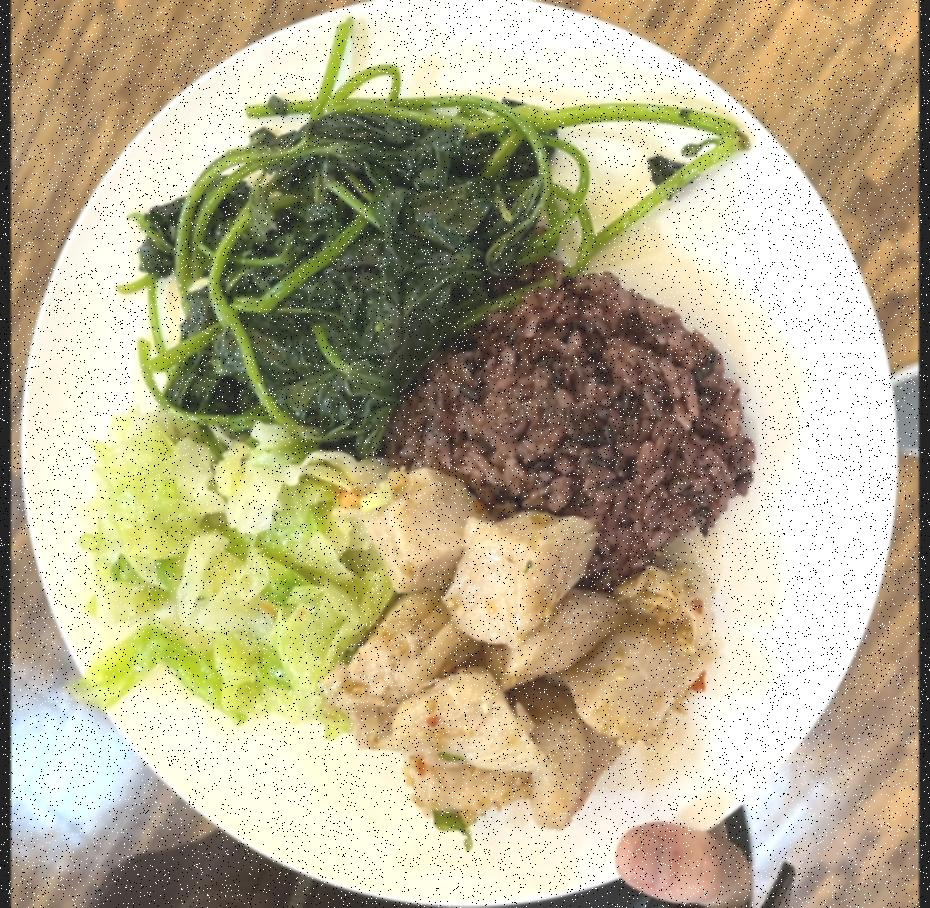big fried chicken leg: (17, 0, 903, 908)
braised fish: (390, 268, 748, 592)
braised fish fillet: (123, 23, 746, 436), (71, 405, 379, 732)
braised pork: (335, 464, 716, 836)
